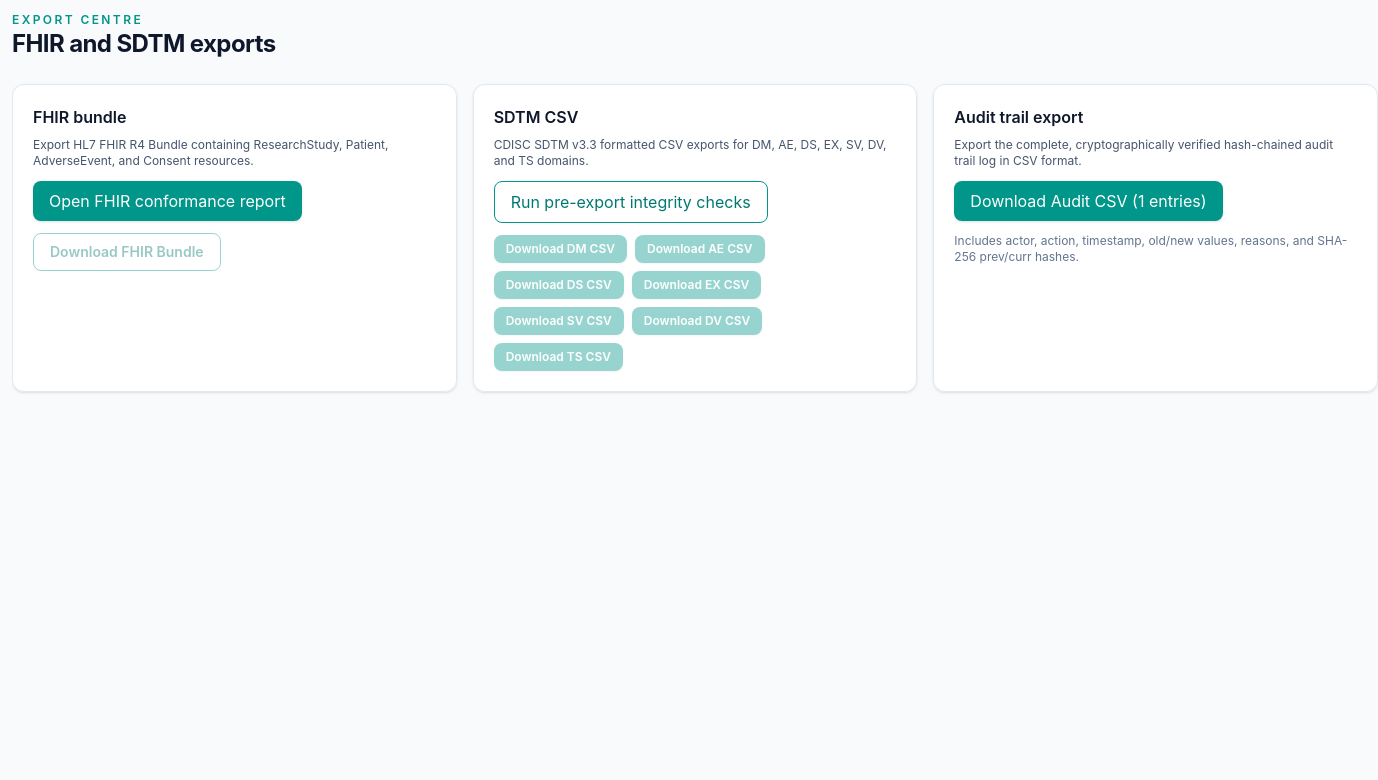
it: Exports page › opens a FHIR conformance report for all mapped resource types
The image size is (1378, 780).
Click the button "Open FHIR conformance report": (167, 201) [33, 181, 302, 221]
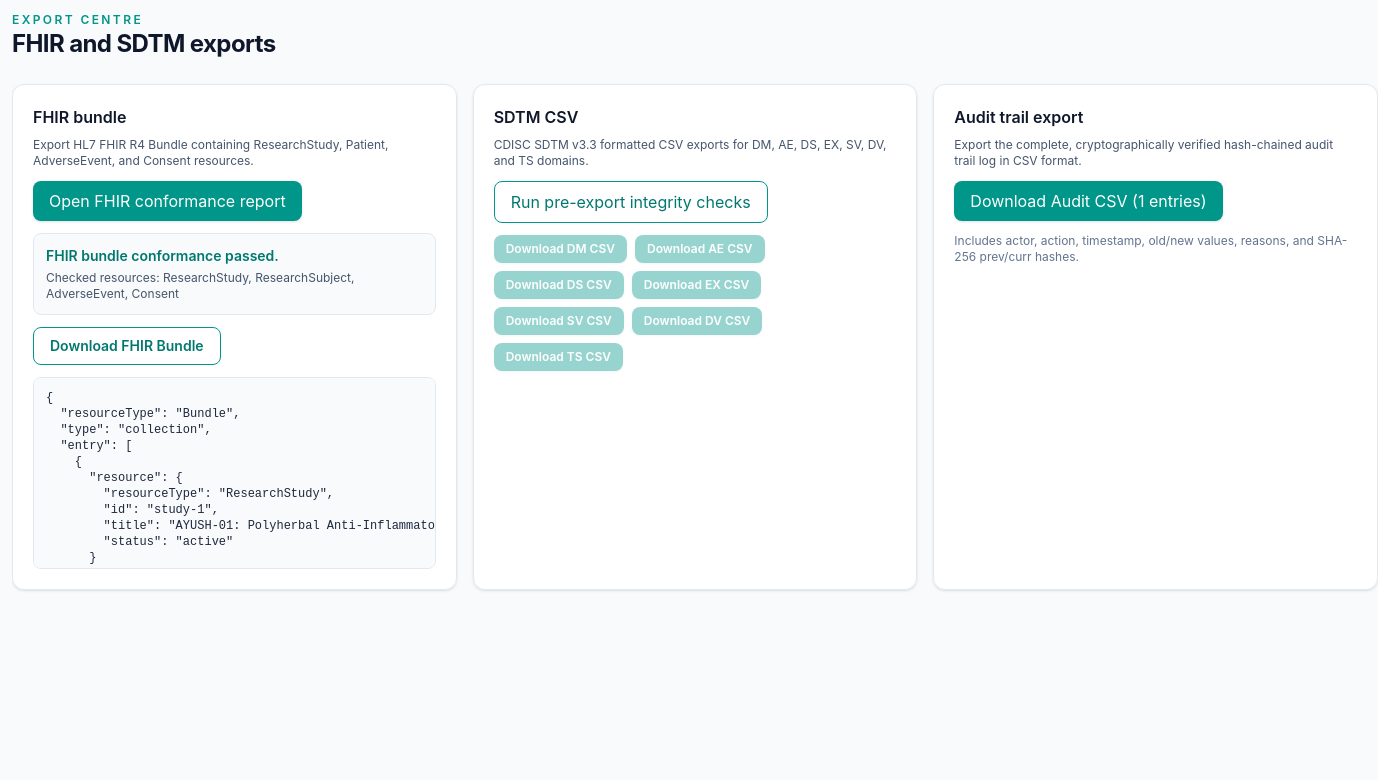
Result: the message reads "FHIR bundle conformance passed." at [46, 247, 279, 264]
Result: the text "ResearchStudy, ResearchSubject, AdverseEvent, Consent" is shown at [46, 270, 354, 301]
